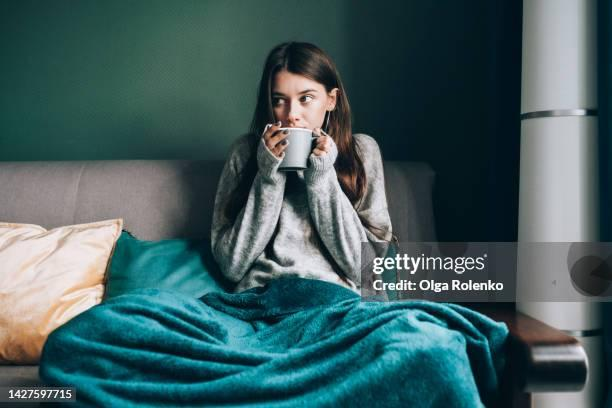blanket: (37, 275, 511, 408)
sweater: (209, 132, 393, 304)
